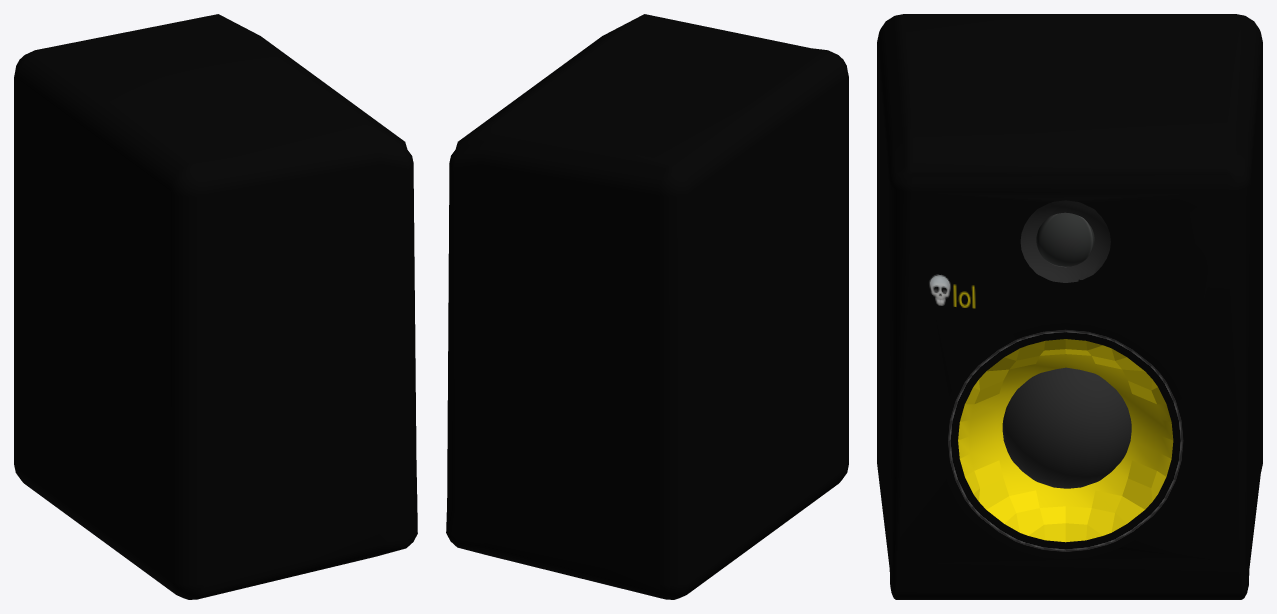
File: Speaker.fbx
3 renders of one model, left to right at view 1: azimuth 30°, elevation 25°; view 2: azimuth 150°, elevation 25°; view 3: azimuth 270°, elevation 25°, orthographic. The views are drawn at different scales.
Visible parts, largest first — view 1: Speaker; view 2: Speaker; view 3: Speaker.
Part boxes in pixels (left/top/right/bottom): Speaker: left=14, top=14, right=417, bottom=599; Speaker: left=446, top=14, right=848, bottom=599; Speaker: left=877, top=14, right=1262, bottom=599.
Bounding box in the file's own units: 1.89 × 3.12 × 2.3.
Materials: 1 (1 with a texture image).
